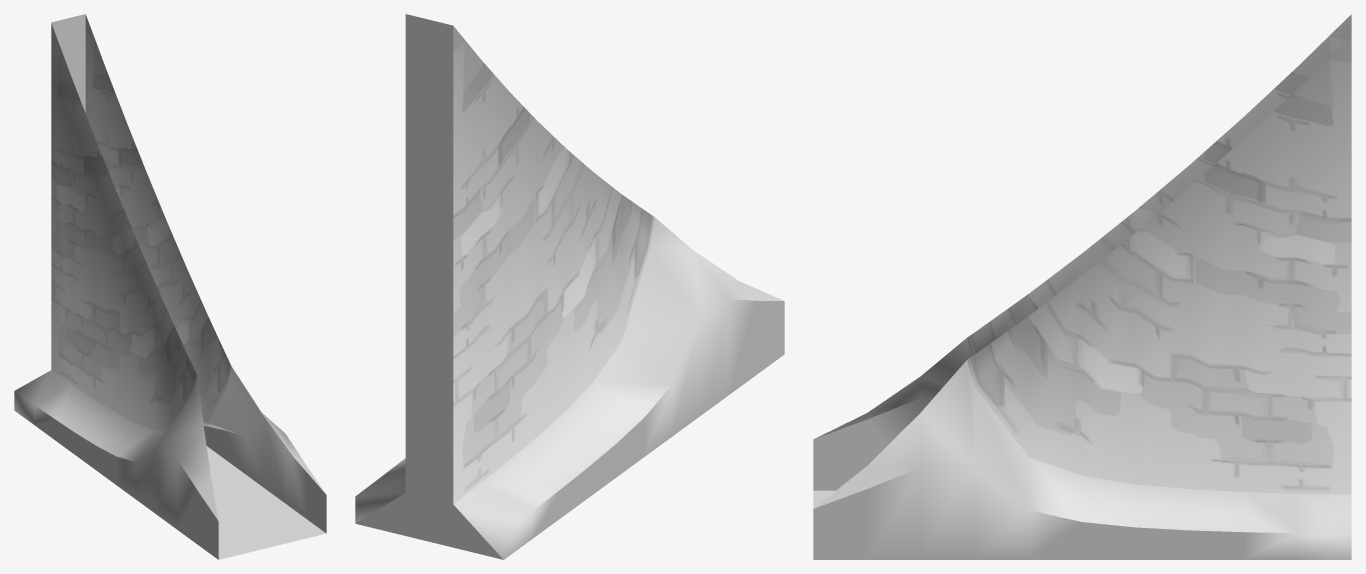
Rendered from SM_Bld_Kawara_S_Gable_01.fbx.
3 renders of one model, left to right at view 1: azimuth 30°, elevation 25°; view 2: azimuth 150°, elevation 25°; view 3: azimuth 270°, elevation 25°, orthographic. The views are drawn at different scales.
Parts seen in each view (by area): view 1: SM_Bld_Kawara_S_Gable_01; view 2: SM_Bld_Kawara_S_Gable_01; view 3: SM_Bld_Kawara_S_Gable_01.
Part boxes in pixels (box(x1,y1,x2,y2)): SM_Bld_Kawara_S_Gable_01: box(14, 14, 326, 559); SM_Bld_Kawara_S_Gable_01: box(355, 14, 784, 559); SM_Bld_Kawara_S_Gable_01: box(813, 14, 1351, 559).
Size of the model in its own units: 0.6109 by 2.05 by 2.
